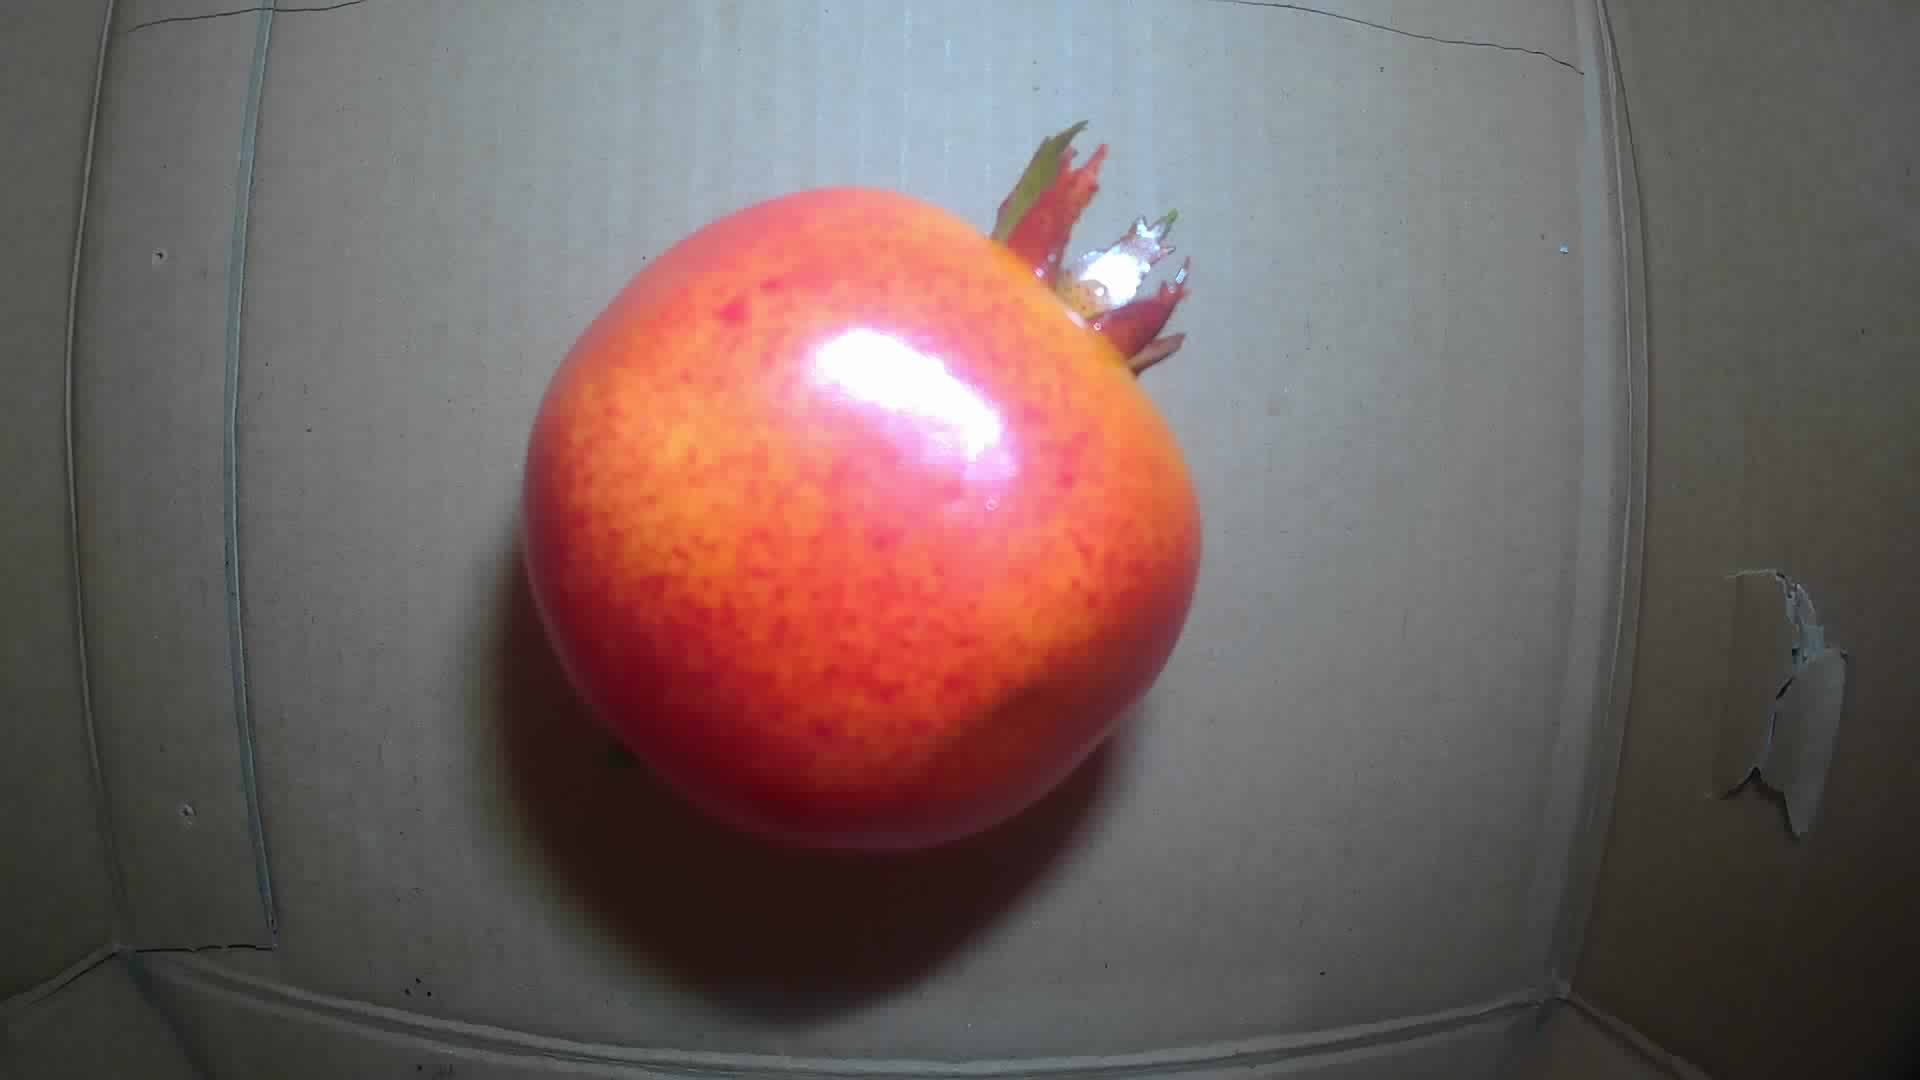pomegranate: (517, 120, 1203, 853)
